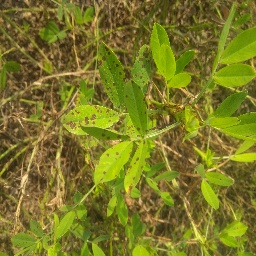GroundNut_Leaf: (96, 42, 130, 103), (94, 139, 130, 188), (150, 22, 175, 82), (61, 105, 122, 128), (217, 30, 256, 61), (206, 118, 256, 139), (213, 63, 256, 85), (56, 202, 85, 234), (108, 191, 133, 226), (215, 89, 249, 114), (220, 220, 249, 246), (132, 85, 146, 137), (181, 106, 199, 138), (40, 23, 65, 46), (201, 178, 218, 208), (12, 233, 38, 252), (149, 169, 180, 182), (229, 154, 256, 161)
